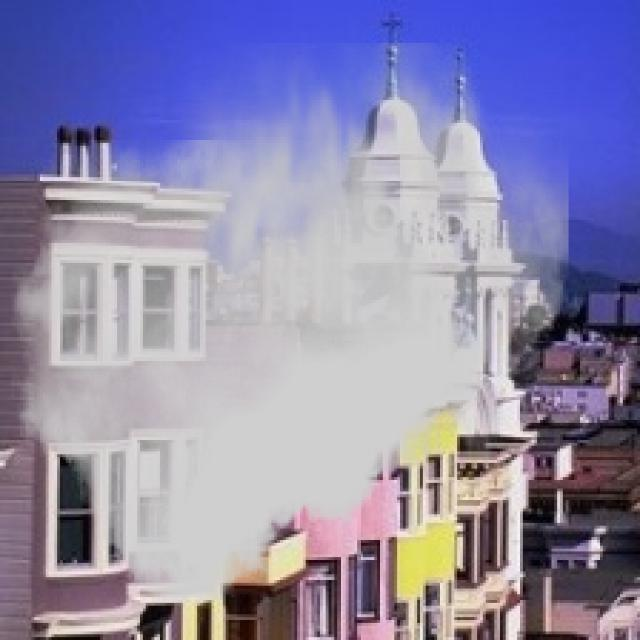smoke: (11, 43, 568, 603)
